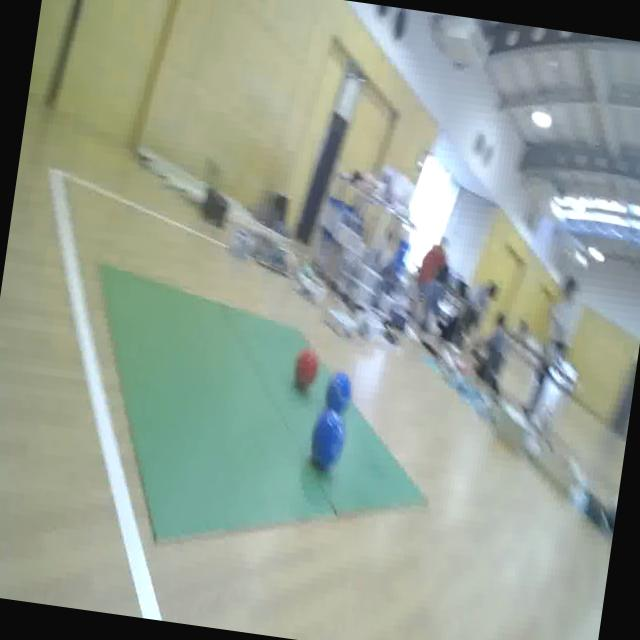blue_ball: (306, 409, 352, 472), (322, 366, 356, 421)
red_ball: (290, 346, 322, 398)
